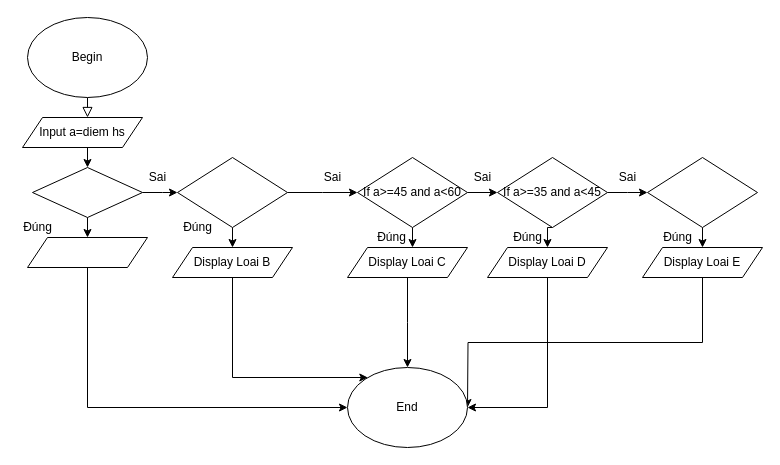
Some shapes in this 780 by 465 pixel diagram are drawn without their labels. The box of each missing label's shape, as (x1, y1, x2, y2) in pixels:
Display Loai A: (26, 236, 148, 268)
If a<35: (646, 156, 758, 228)
If a>=60 and a<75: (176, 156, 288, 228)
If a>=75: (32, 166, 142, 218)
